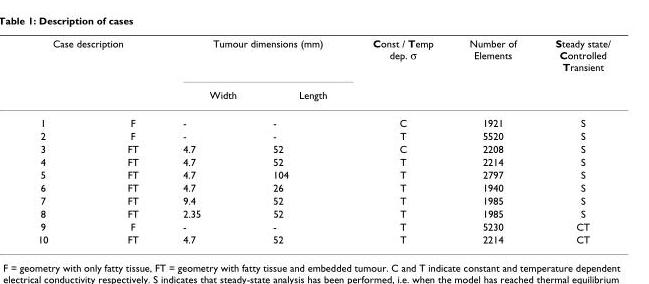table: (37, 36, 609, 244)
table column: (349, 36, 450, 244), (254, 36, 349, 244), (160, 36, 254, 244), (450, 36, 535, 244), (535, 36, 609, 244), (87, 36, 160, 244), (37, 36, 87, 244)
table column header: (37, 36, 609, 108)
table row: (37, 36, 609, 80), (37, 80, 609, 108), (37, 108, 609, 129), (37, 141, 609, 154), (37, 154, 609, 167), (37, 167, 609, 180), (37, 180, 609, 193), (37, 193, 609, 206), (37, 206, 609, 219), (37, 219, 609, 232), (37, 129, 609, 141), (37, 232, 609, 244)
table spanning cell: (160, 36, 349, 80), (349, 36, 450, 108), (450, 36, 535, 108), (37, 36, 160, 80), (535, 36, 609, 108)
